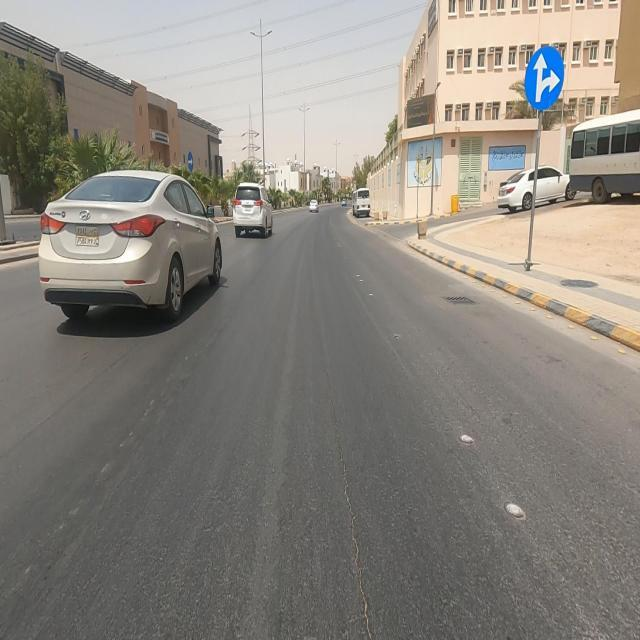debris: (386, 115, 464, 224), (462, 115, 554, 198)
